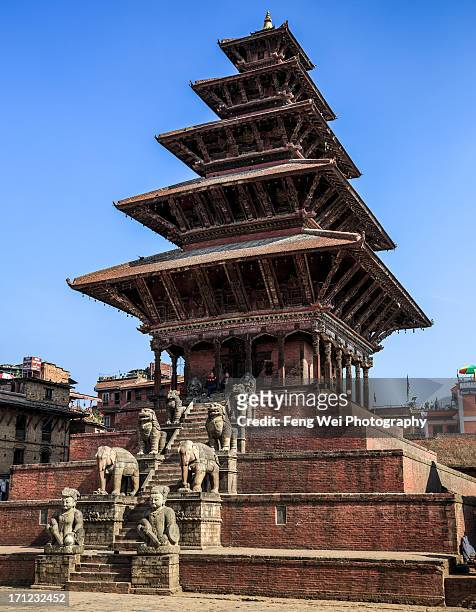nyathapola: (59, 10, 438, 603)
